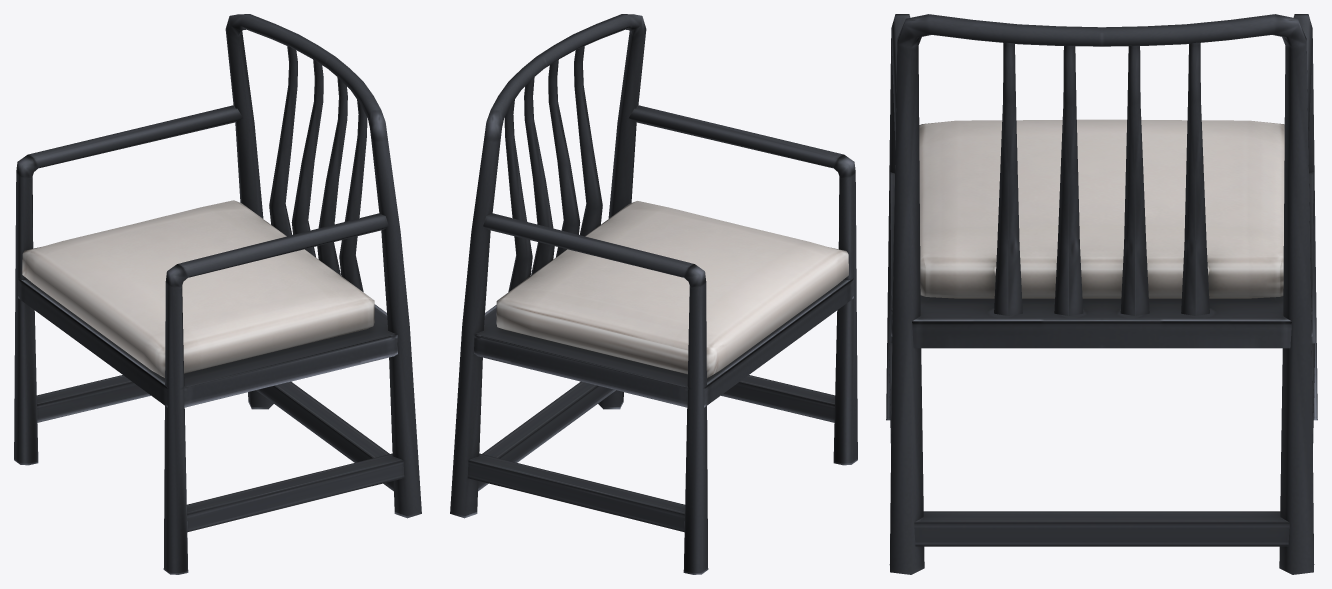
The model's file is Chair02.FBX.
3 views of the same model, side by side, from view 1: azimuth 30°, elevation 25°; view 2: azimuth 150°, elevation 25°; view 3: azimuth 270°, elevation 25° (orthographic). The views are drawn at different scales.
Parts seen in each view (by area): view 1: Chair02; view 2: Chair02; view 3: Chair02.
Boxes of the visible parts, x1,y1,x2,y2 form: Chair02: (14, 14, 421, 574); Chair02: (450, 14, 857, 574); Chair02: (886, 14, 1317, 574).
Size of the model in its own units: 52.48 by 57.09 by 78.43.
